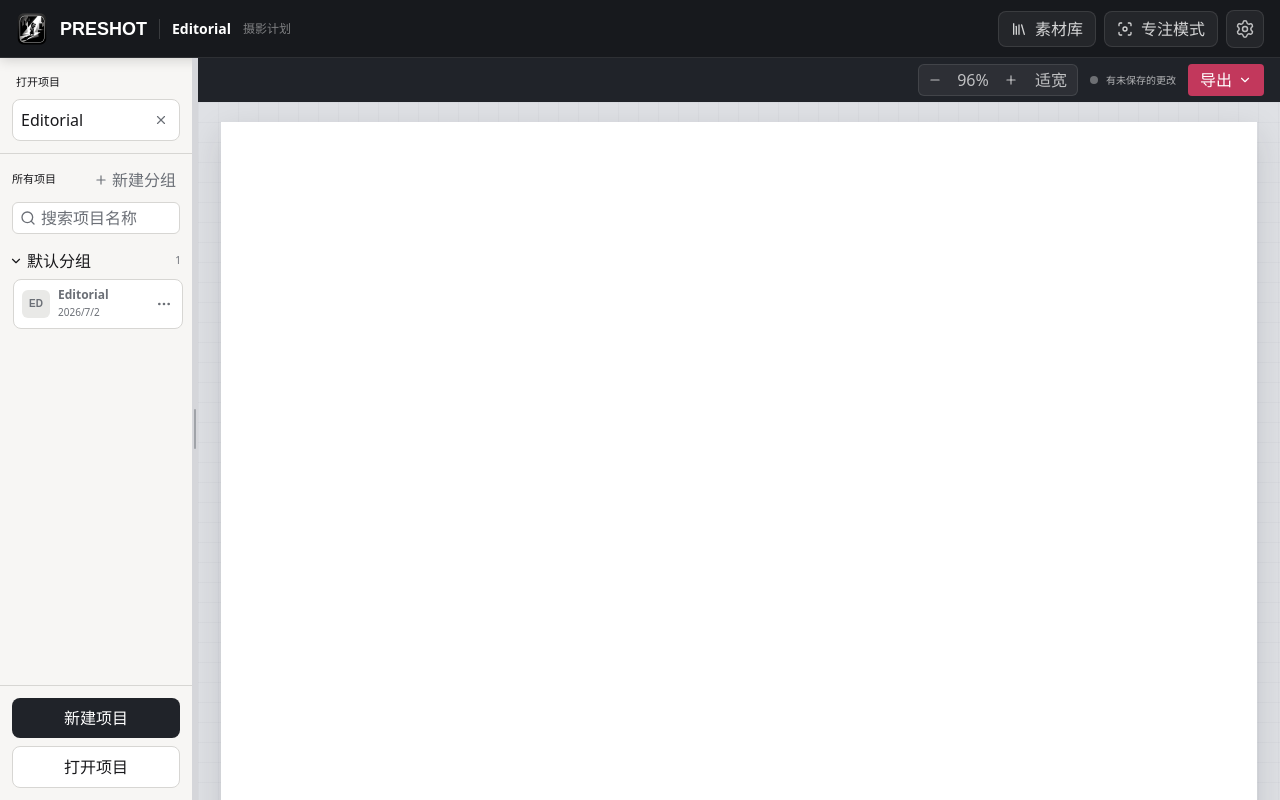
Test: App › confirms list removal, drains saves and closes the session without later writes
Click the button named "更多项目操作 Editorial". click: [164, 304]
box: 150,290 -> 178,318
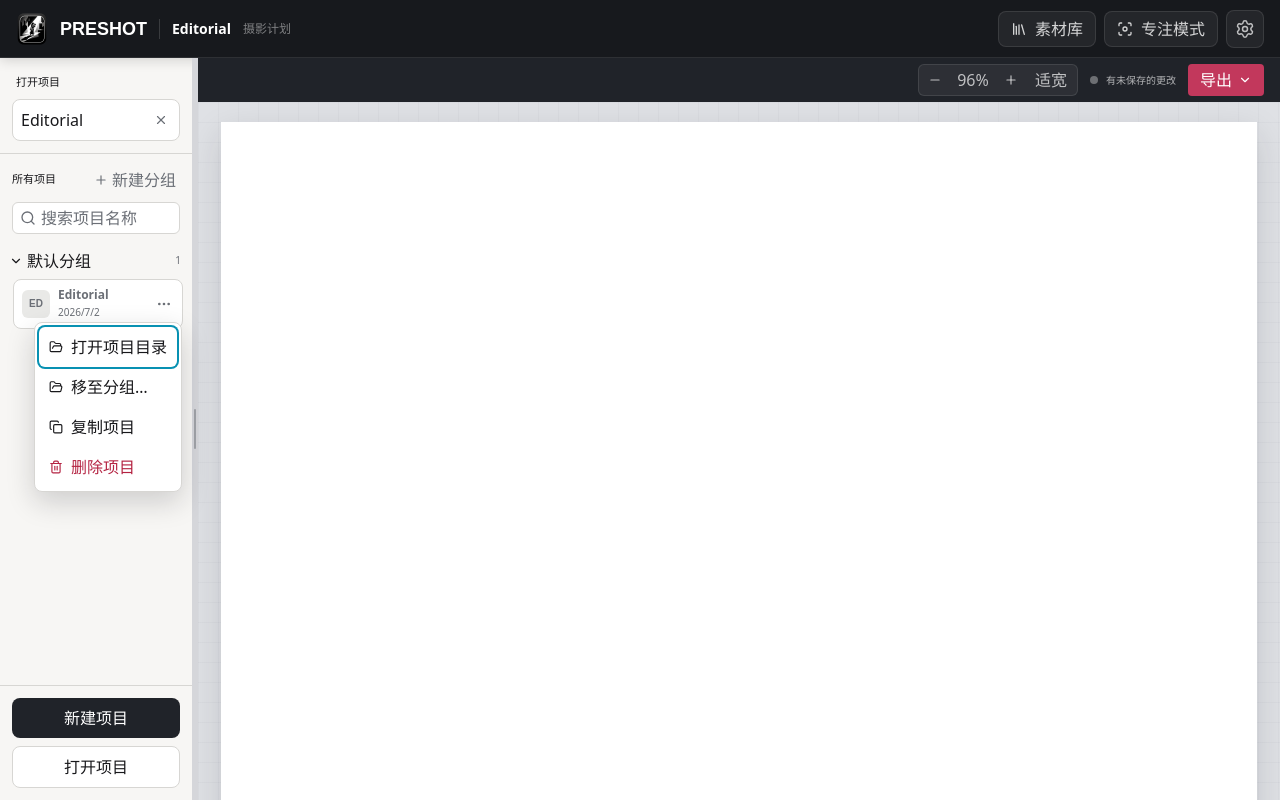
Click the menu item "删除项目". click: [108, 466]
box: 39,446 -> 177,486
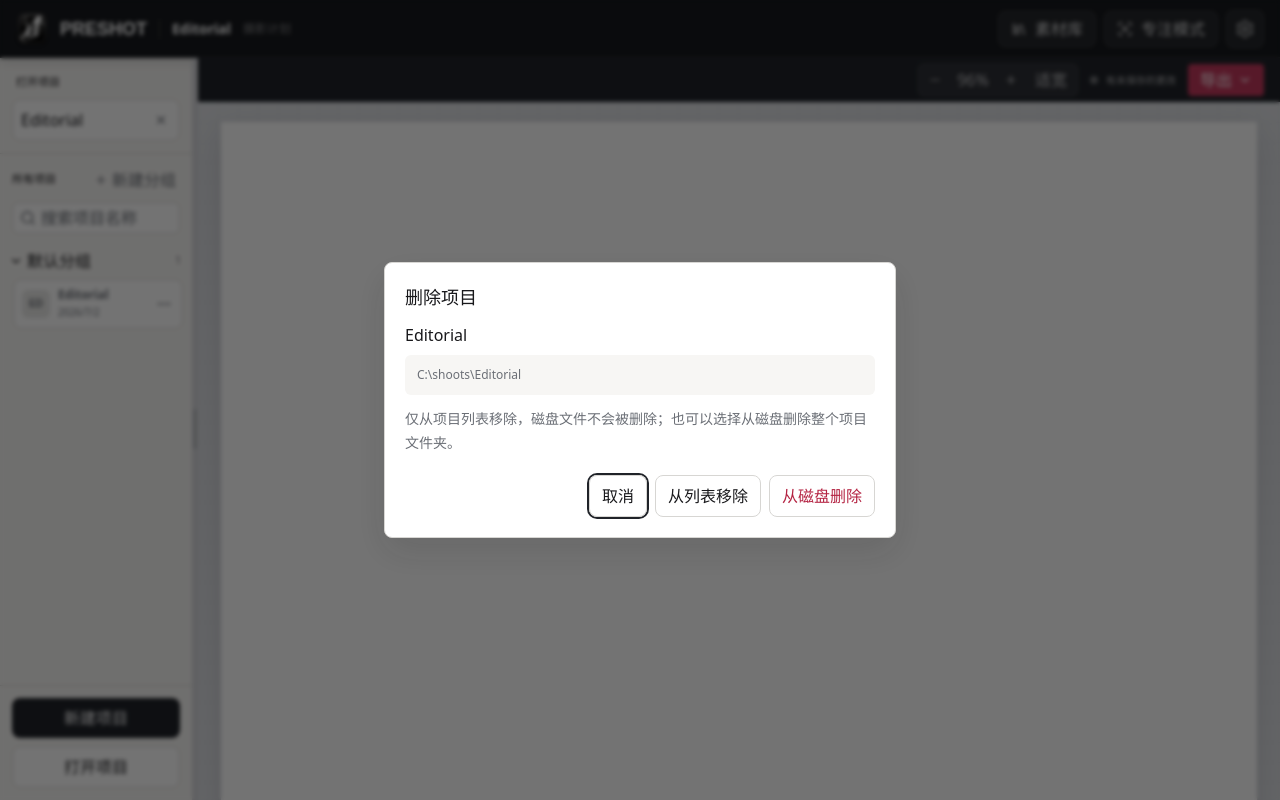
Expected: the dialog "删除项目" shows "C:\\shoots\\Editorial", 417,366 -> 521,383
Click the button "从列表移除". click: [708, 496]
box: 655,475 -> 761,517
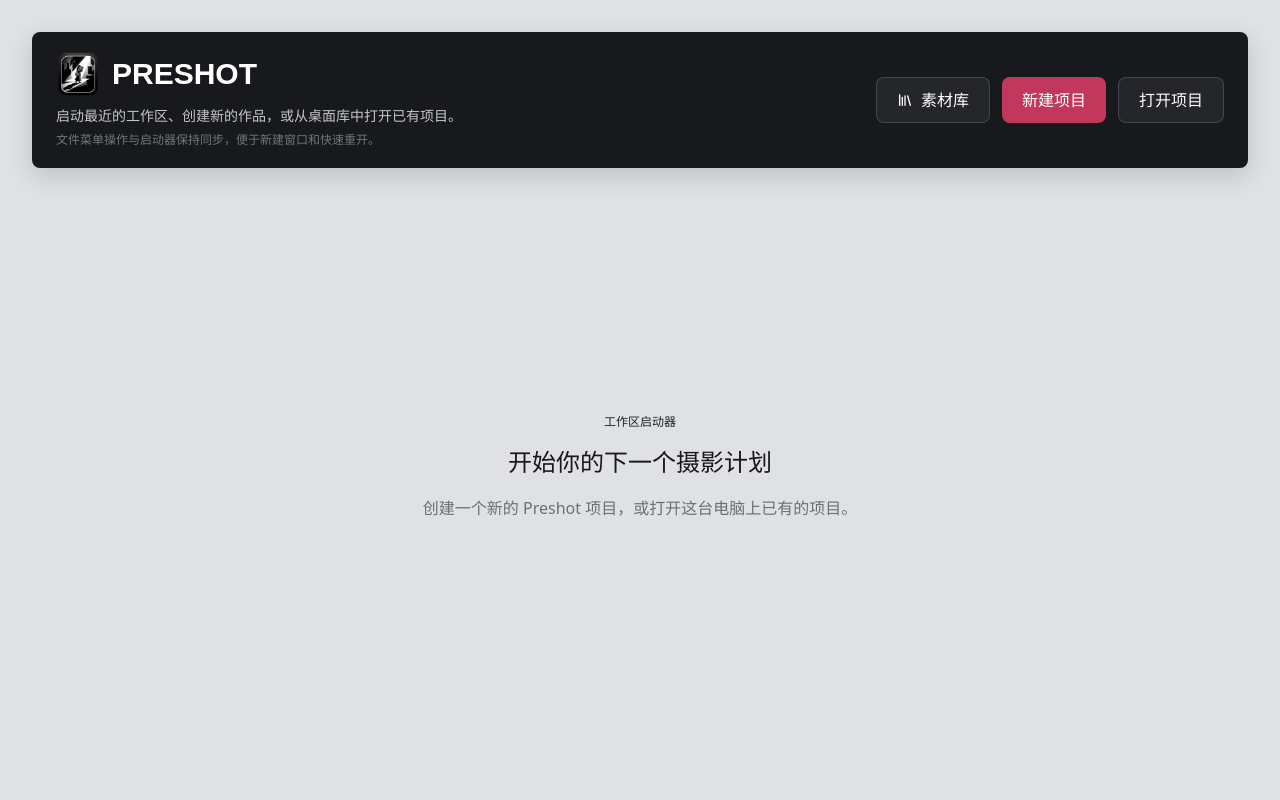
Expected: the dialog is gone
